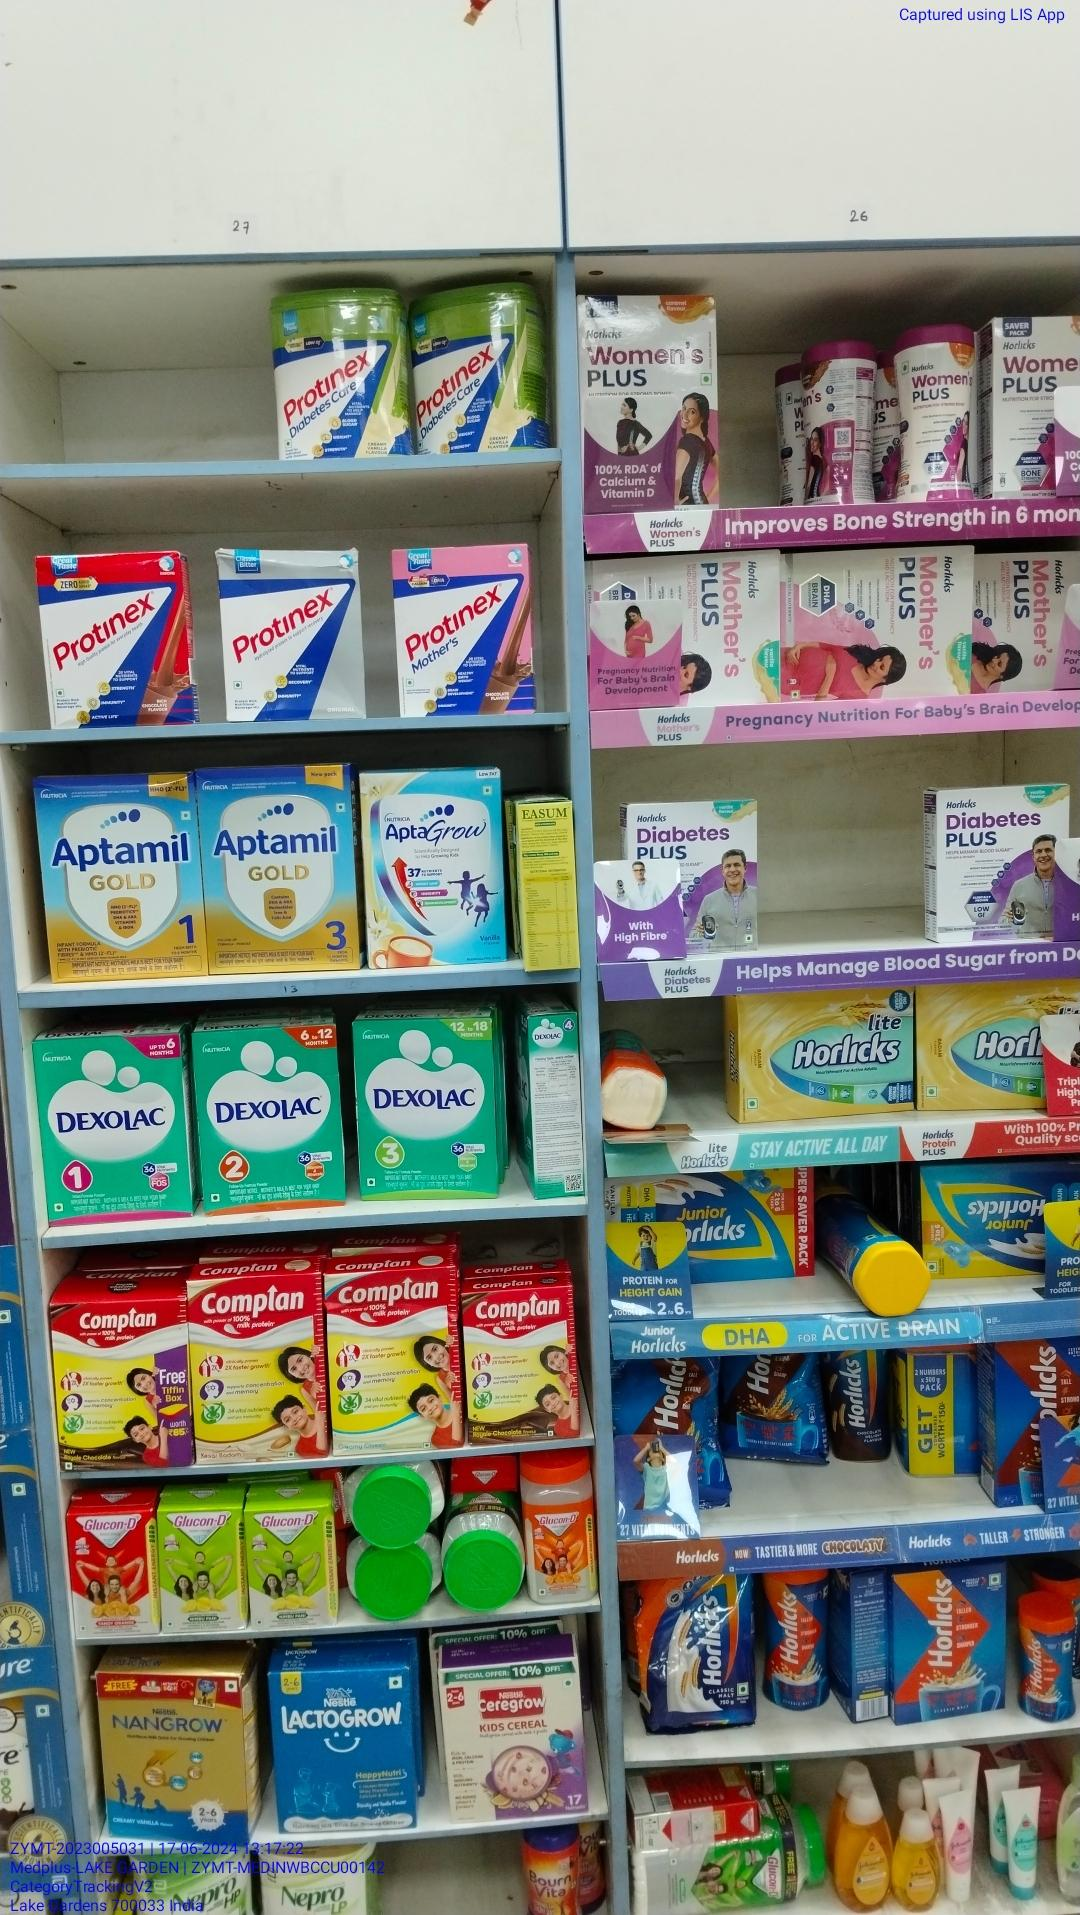COMPLAN_CHOCOLATE_200_GMS_PACK: (467, 1293, 579, 1439)
COMPLAN_CHOCOLATE_500_GMS_PACK: (55, 1303, 189, 1465)
COMPLAN_CREAMY_CLASSIC_500_G_PACK: (331, 1273, 459, 1448)
COMPLAN_KESAR_BADAM_500_GMS_PACK: (193, 1278, 326, 1459)
HORLICK_CLASSIC_MALT_200_G_JAR: (1018, 1607, 1075, 1720)
HORLICK_CLASSIC_MALT_500_G_JAR: (764, 1576, 829, 1710)
HORLICK_CLASSIC_MALT_500_G_PACK: (895, 1573, 1006, 1712)
